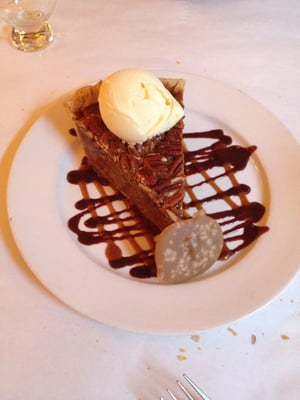soup: (65, 68, 188, 233)
